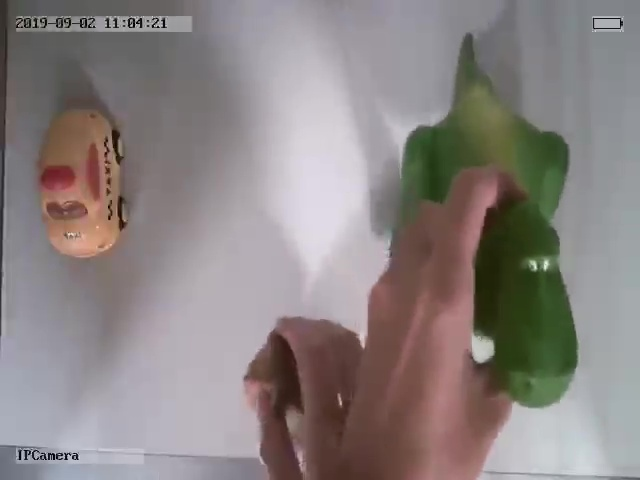car: (36, 105, 131, 257)
